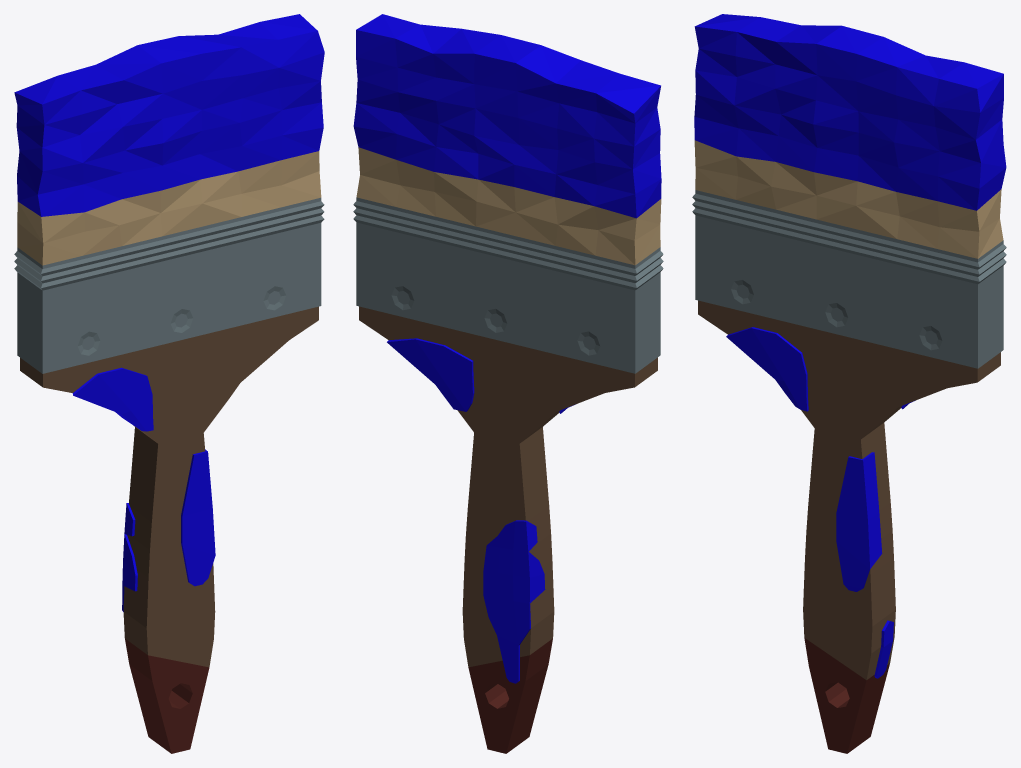
File: SM_Paint_Brush_In_Paint.gltf
The picture shows the model from 3 angles, left to right: view 1: azimuth 30°, elevation 25°; view 2: azimuth 150°, elevation 25°; view 3: azimuth 330°, elevation 25°; orthographic projection.
Parts seen in each view (by area): view 1: SM_Paint_Brush_In_Paint; view 2: SM_Paint_Brush_In_Paint; view 3: SM_Paint_Brush_In_Paint.
Part boxes in pixels (x1,y1,x2,y2): SM_Paint_Brush_In_Paint: [14, 14, 324, 753]; SM_Paint_Brush_In_Paint: [353, 14, 663, 753]; SM_Paint_Brush_In_Paint: [692, 14, 1006, 753].
Size of the model in its own units: 0.1244 by 0.2899 by 0.0224.
